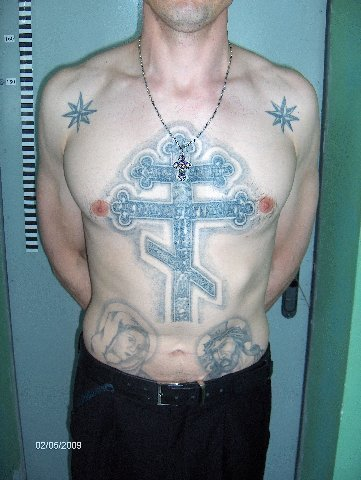tatu2_bogorodica: (92, 291, 165, 373)
tatu4_zvezda: (65, 92, 112, 134), (266, 87, 302, 137)
tatu9_krest: (109, 117, 261, 323)
